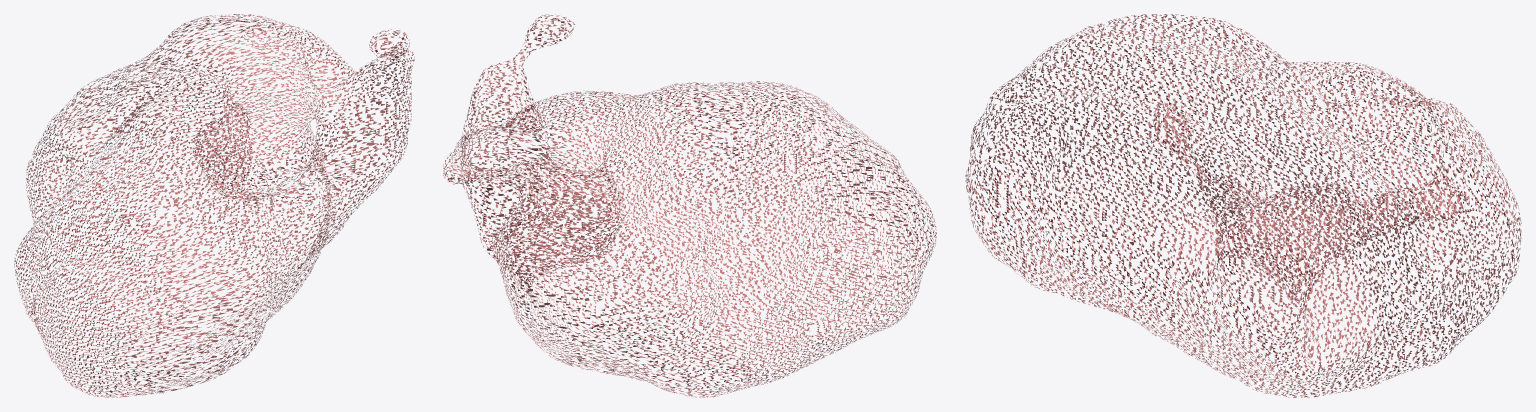
The model's file is heart.glb.
3 views of the same model, side by side, from view 1: azimuth 30°, elevation 25°; view 2: azimuth 150°, elevation 25°; view 3: azimuth 270°, elevation 25° (orthographic). The views are drawn at different scales.
Size of the model in its own units: 129 by 90.1 by 123.
